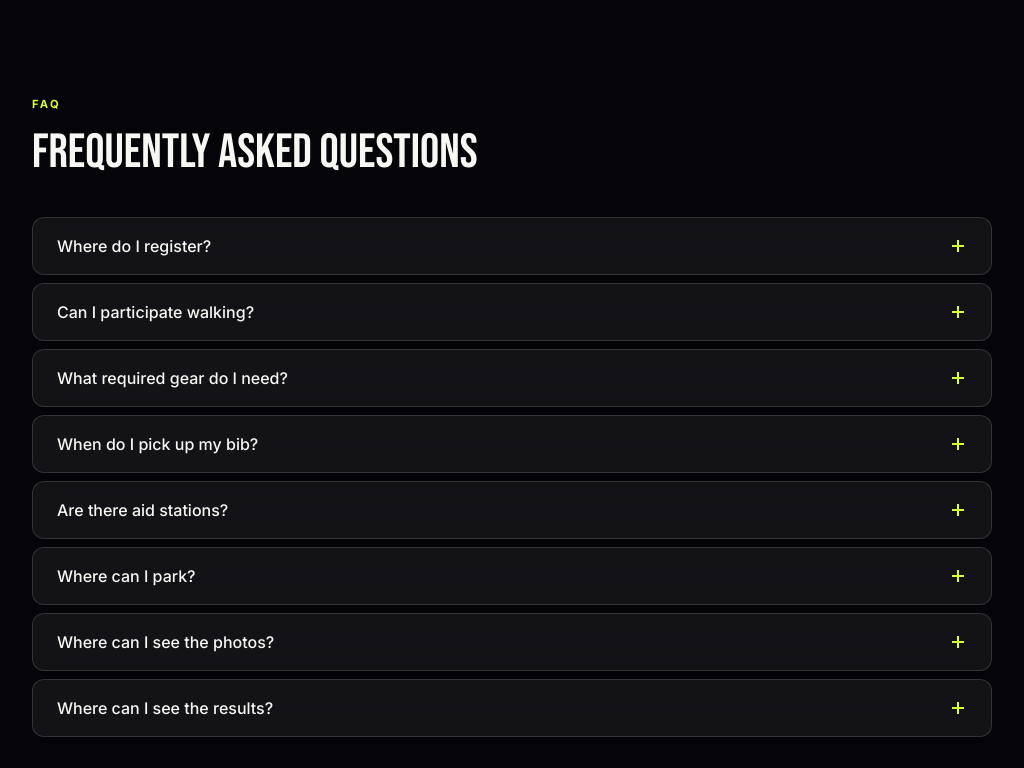
Test case: Faq › answer contains Chiplevante after opening first item in English
Click the heading "Where do I register?". click: (134, 246)
box: [57, 236, 967, 256]
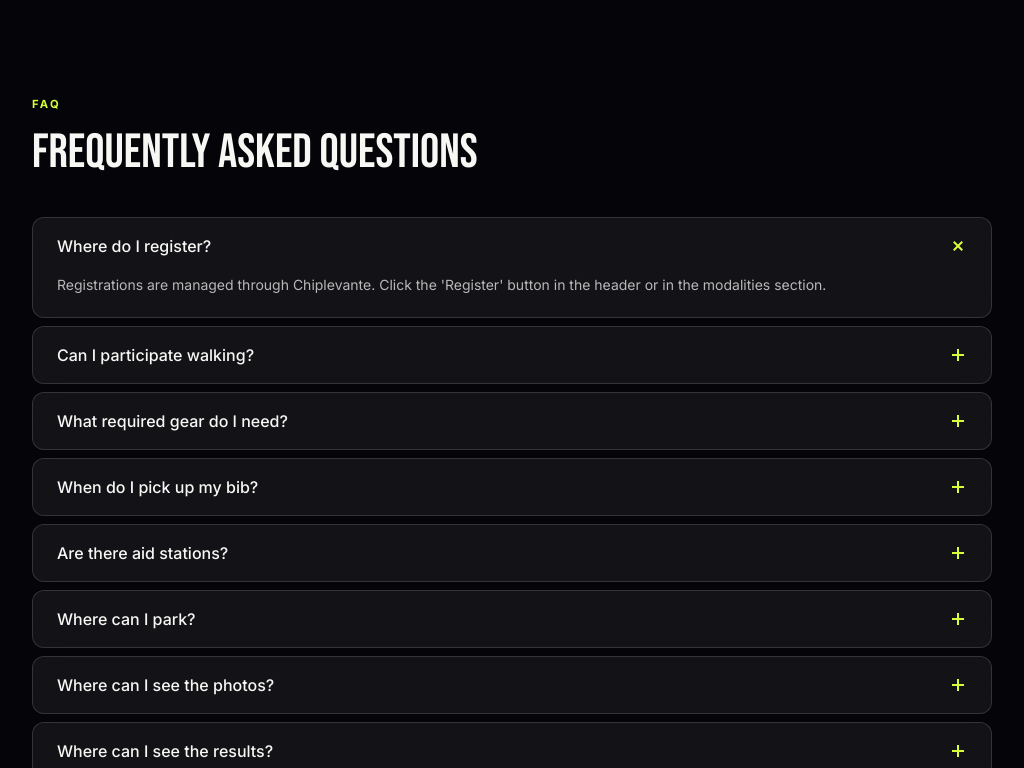
Result: the text "Chiplevante" is shown at [57, 276, 826, 293]
